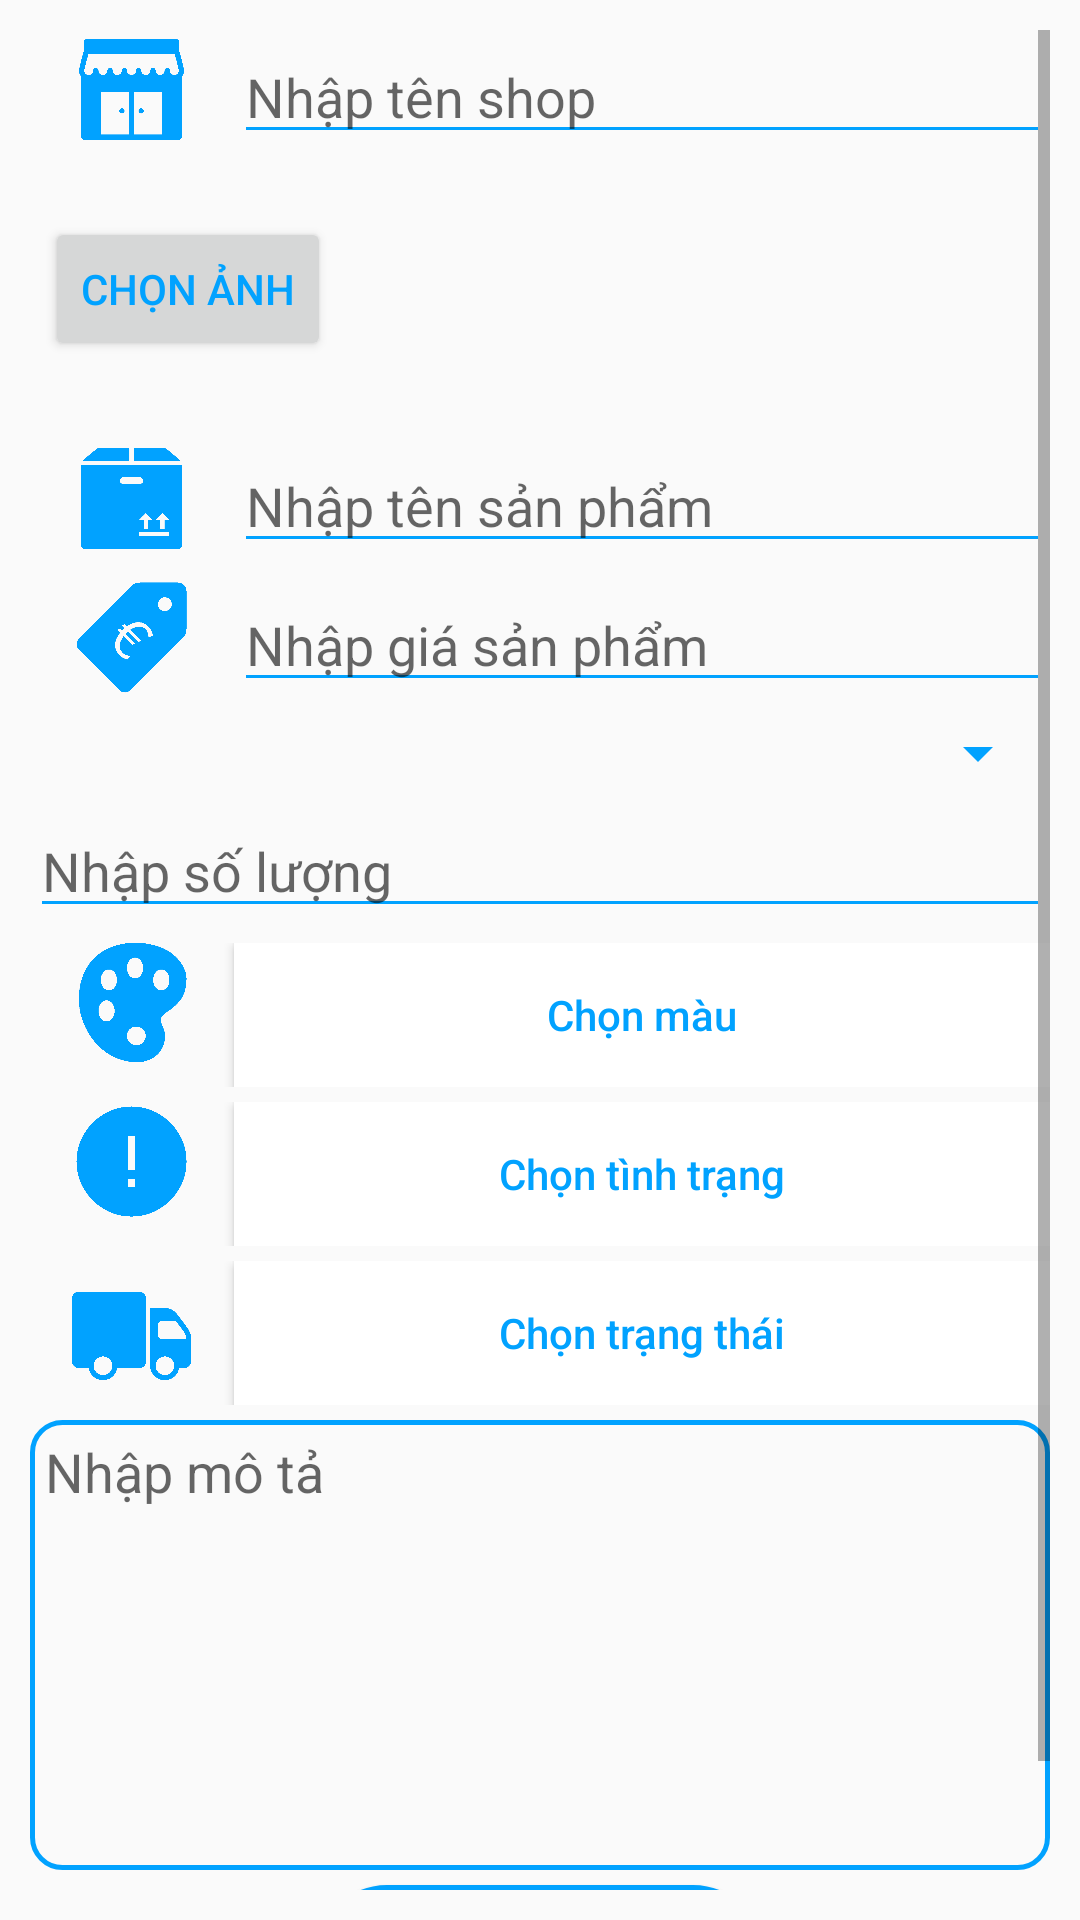

Named icons in this screenshot (1080 × 1920) and their bounding boxes, bbox=[x1, y1, x2, y2]:
error: bbox=[76, 1106, 187, 1217]
price: bbox=[77, 582, 187, 692]
product: bbox=[81, 448, 182, 549]
truck: bbox=[72, 1292, 191, 1380]
